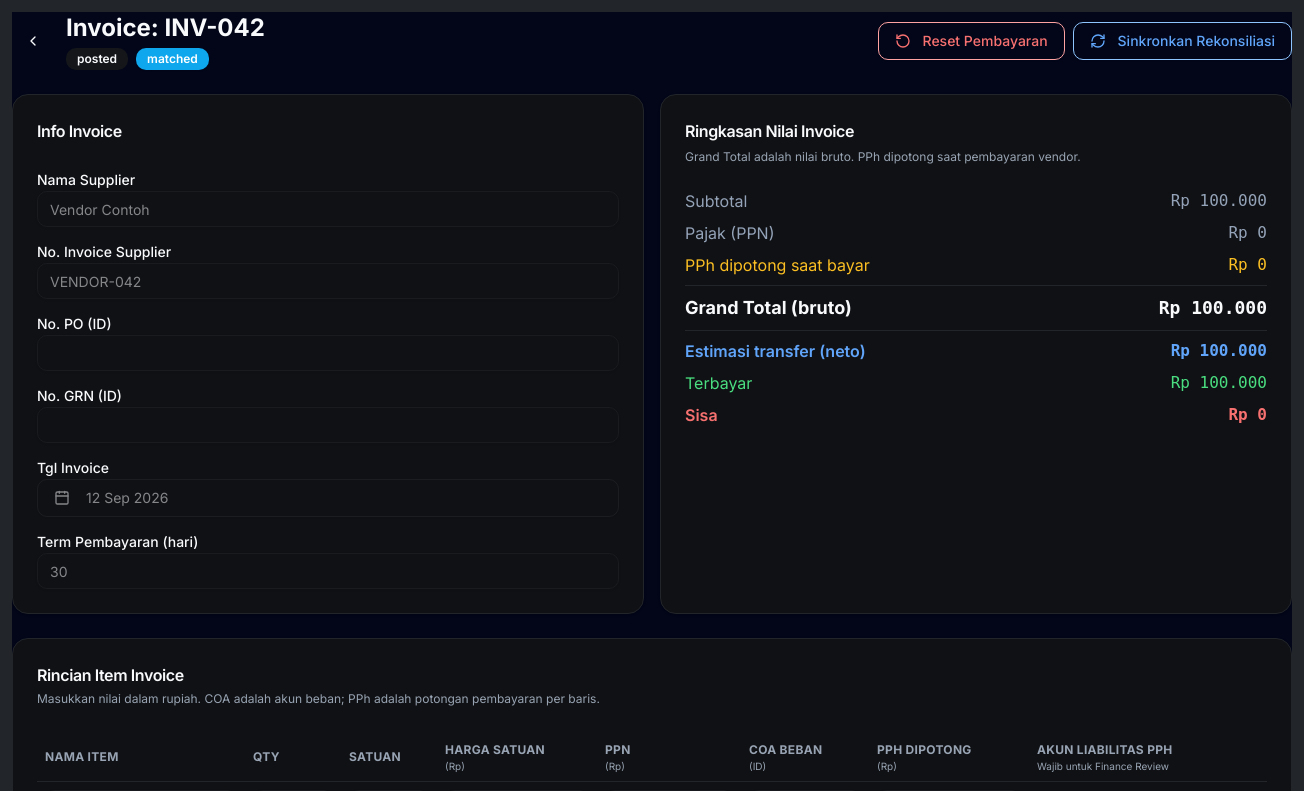
it: Vendor invoice payment synchronization › keeps sync available for a fully paid posted invoice and updates status after sync
Expected: the text "posted" is shown, [66,48,128,70]
Click the button "Sinkronkan Rekonsiliasi": x=1182, y=41 [1073,22,1292,60]
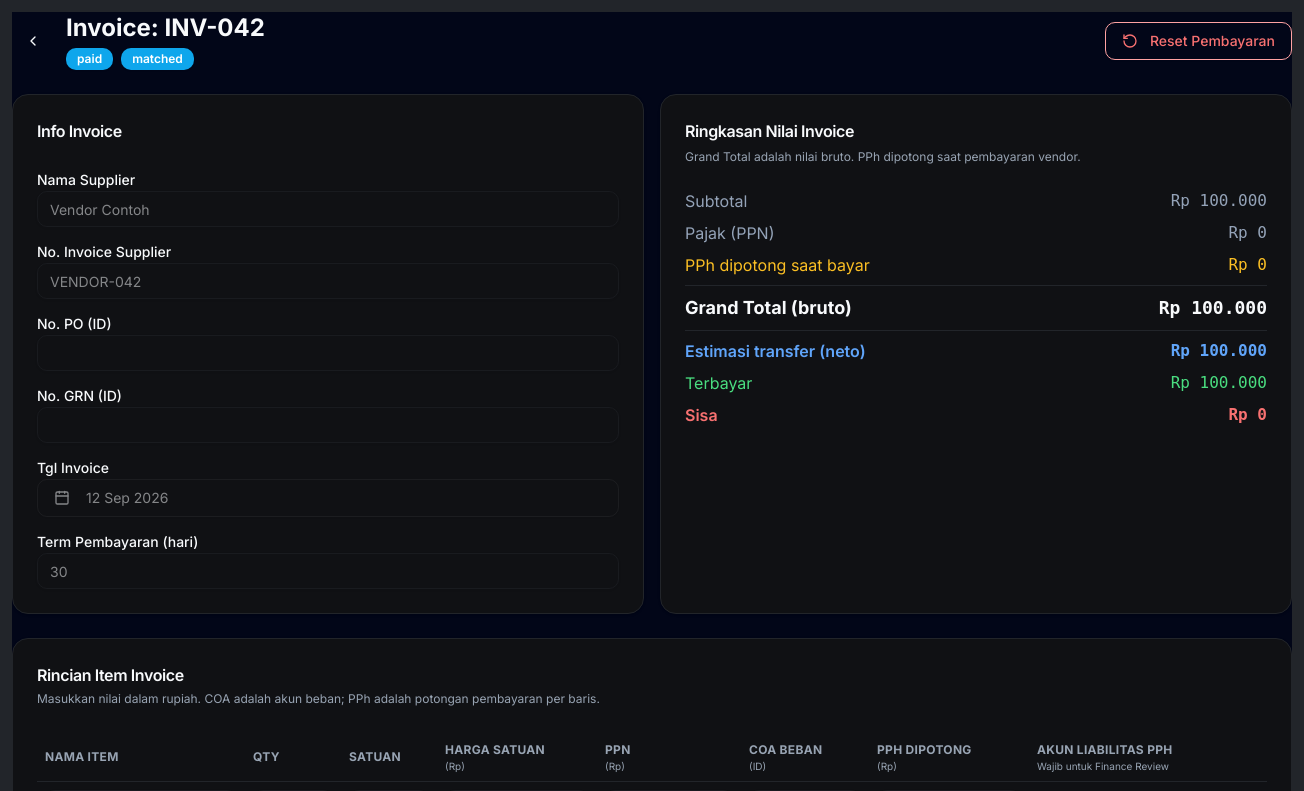
Now the text "paid" is shown, box [66,48,113,70]
Now the button "Sinkronkan Rekonsiliasi" is gone
